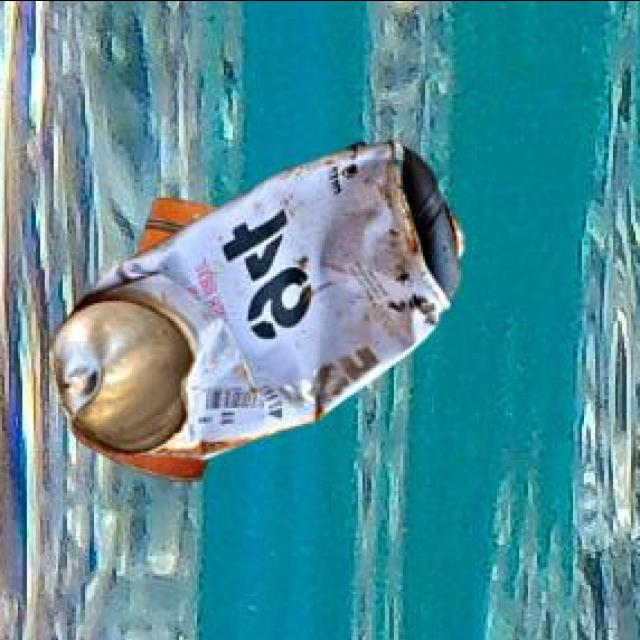logam: (46, 135, 460, 455), (68, 194, 211, 478)
